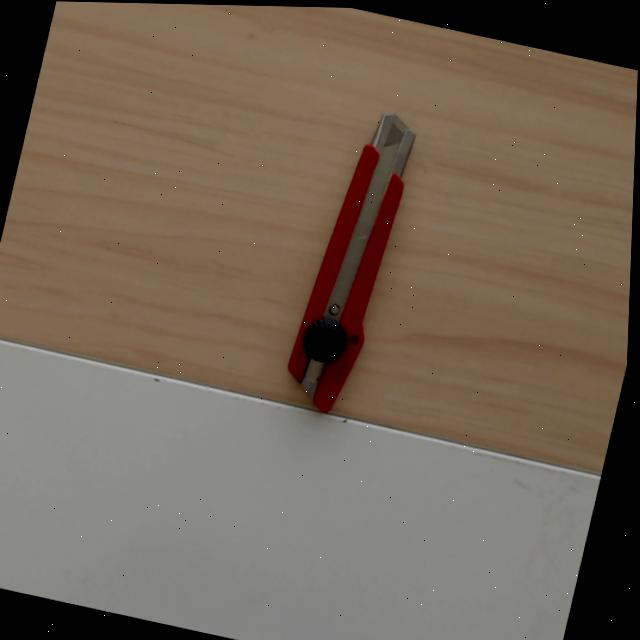Cutter-Besar: (280, 104, 424, 418)
